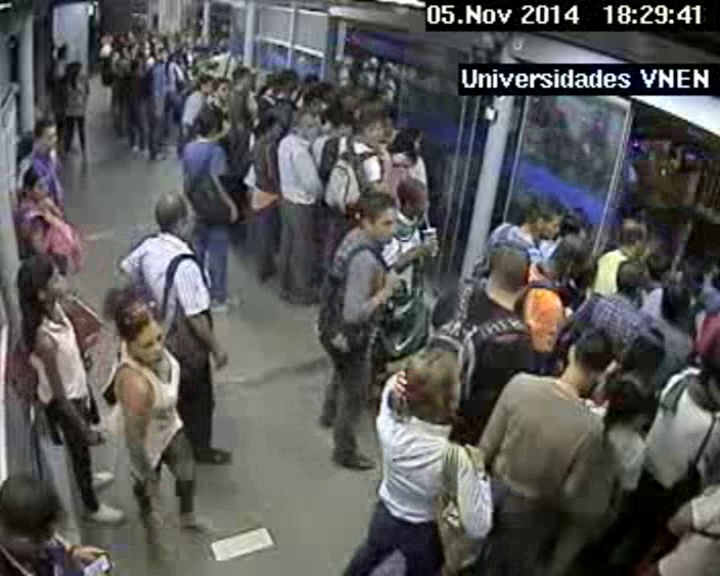person: (1, 464, 70, 557), (397, 344, 470, 426), (104, 286, 172, 365), (12, 251, 71, 316), (564, 325, 613, 389), (485, 241, 535, 299), (352, 188, 399, 244), (605, 377, 642, 430), (152, 186, 191, 232), (527, 195, 568, 237), (627, 329, 667, 372), (556, 236, 593, 277), (397, 176, 433, 218), (676, 258, 711, 301), (688, 342, 720, 386), (614, 213, 648, 252), (614, 257, 645, 295), (355, 91, 386, 128), (21, 168, 51, 201), (394, 126, 424, 158), (35, 118, 61, 153), (196, 107, 222, 140), (253, 114, 281, 144), (291, 110, 318, 141), (353, 118, 380, 146), (647, 253, 671, 281), (230, 66, 250, 89), (302, 91, 322, 114), (214, 79, 231, 101), (197, 76, 214, 94), (281, 68, 296, 86), (138, 40, 152, 56), (68, 59, 82, 74), (58, 44, 72, 57), (156, 49, 170, 62), (114, 34, 126, 47), (126, 30, 136, 41), (174, 49, 183, 59), (142, 31, 151, 41), (102, 25, 111, 34), (168, 55, 175, 63)
